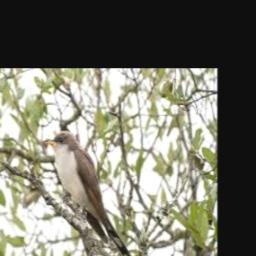Cuckoo: (47, 130, 142, 256)
